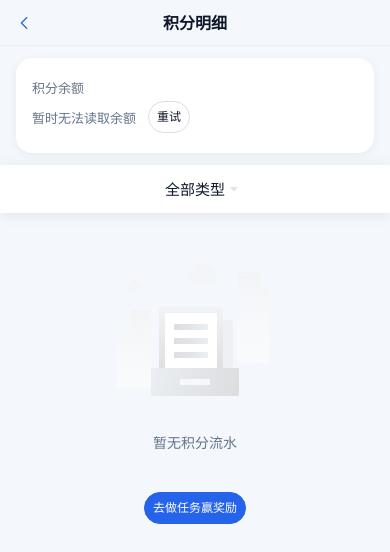
Test case: MinePointsPage › shows balance failure separately and retries without reloading the ledger
This screenshot has width=390, height=552.
Expected: the message with test id "points-balance-error" shows "暂时无法读取余额", [32,108,136,126]
Click the button with test id "points-balance-retry": {"x": 169, "y": 117} [148,101,190,133]
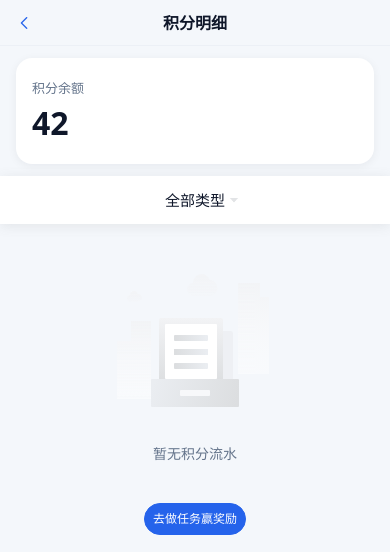
Result: the text with test id "points-balance-amount" reads "42" at [32,101,69,144]
